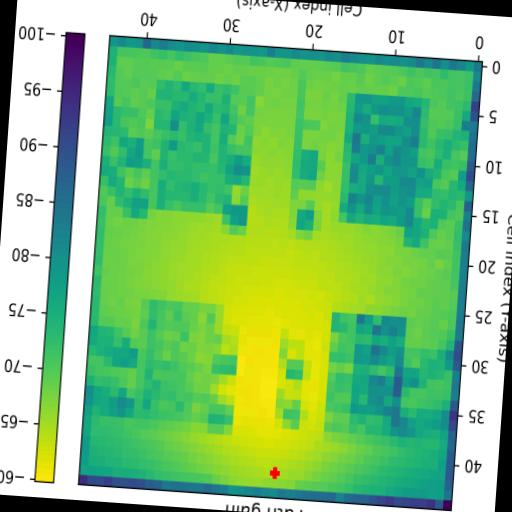Concrete: (131, 299, 217, 434)
Glass: (324, 312, 406, 436)
Metal: (146, 80, 240, 214)
Wood: (338, 92, 423, 226)
